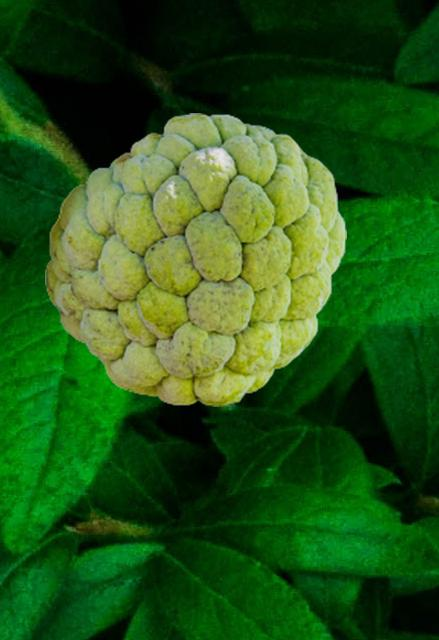atis: (45, 113, 345, 405)
